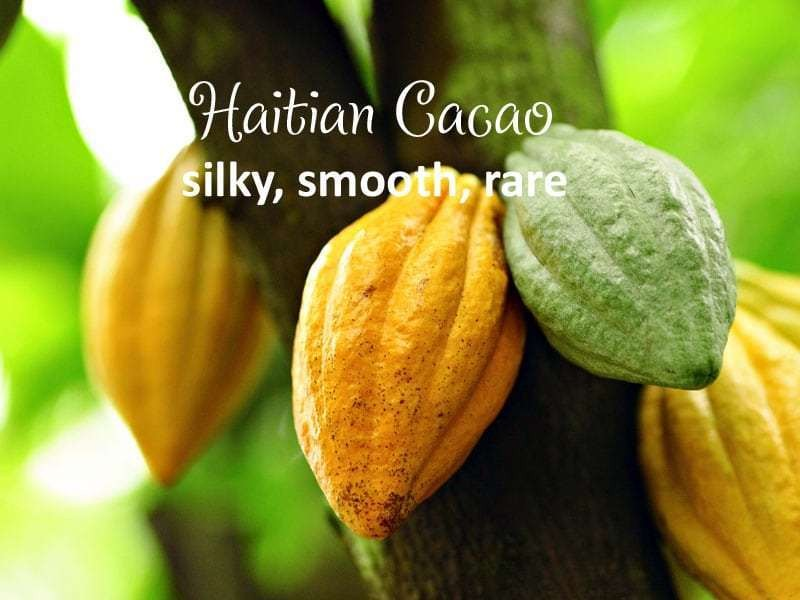Cacaopod: (291, 158, 519, 543), (500, 123, 739, 391)
